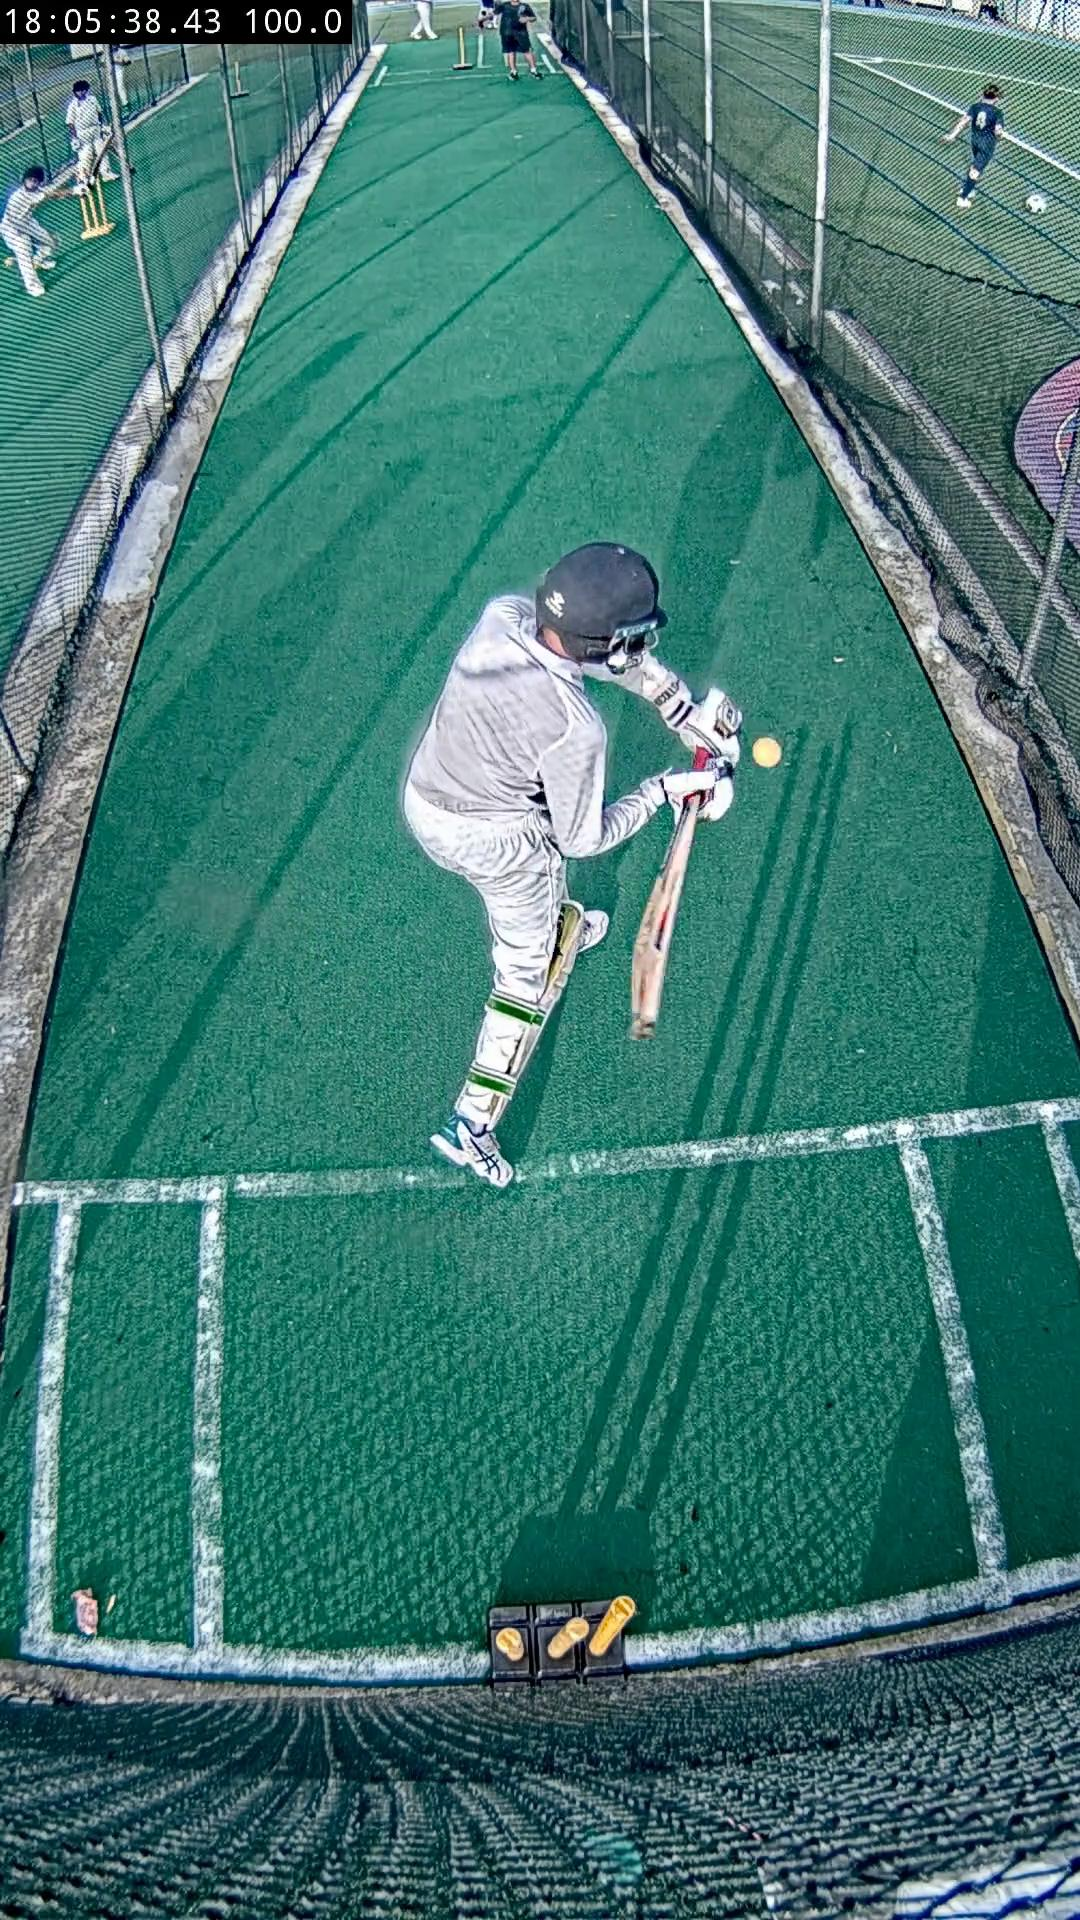ball: (750, 735, 783, 769)
bat: (630, 799, 702, 1036)
gloves: (663, 686, 742, 822)
helmet: (537, 543, 667, 659)
pads: (541, 899, 608, 1013)
stumps: (488, 1597, 637, 1684)
